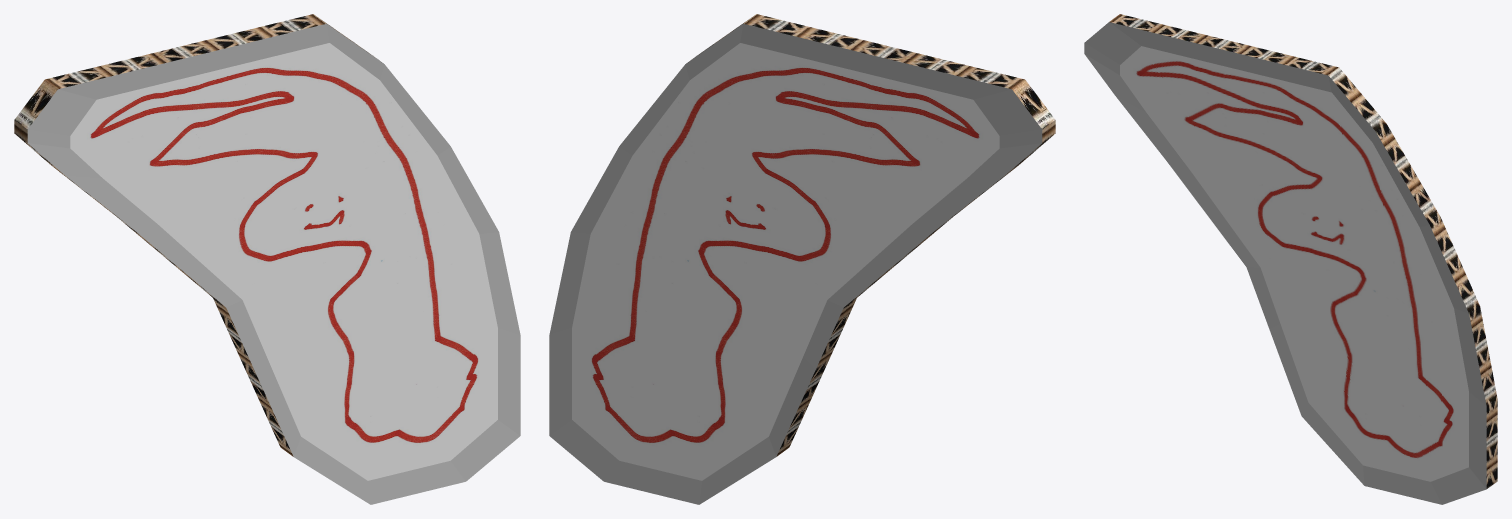
The model's file is LerppuKani.fbx.
The picture shows the model from 3 angles, left to right: view 1: azimuth 30°, elevation 25°; view 2: azimuth 150°, elevation 25°; view 3: azimuth 330°, elevation 25°; orthographic projection. The views are drawn at different scales.
Parts seen in each view (by area): view 1: LerppuKani; view 2: LerppuKani; view 3: LerppuKani.
Boxes of the visible parts, x1,y1,x2,y2 form: LerppuKani: (14,14,520,504); LerppuKani: (549,14,1055,504); LerppuKani: (1084,14,1497,504).
Size of the model in its own units: 231 by 220 by 10.79.
